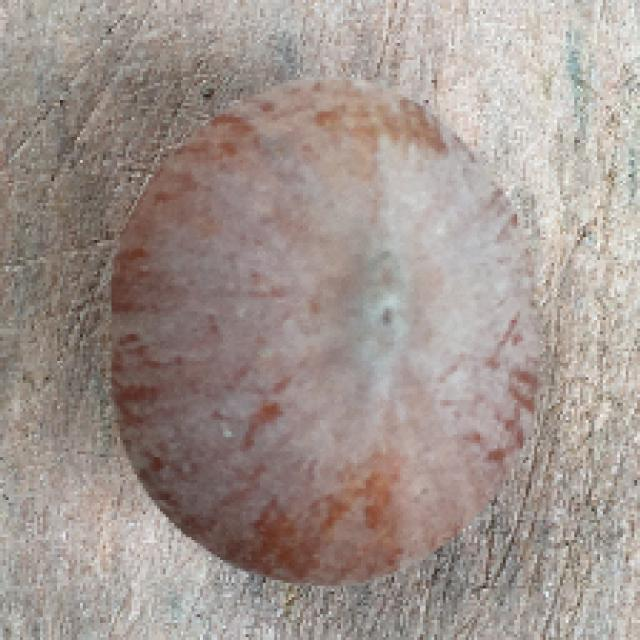qualityHazelnut: (103, 71, 550, 590)
